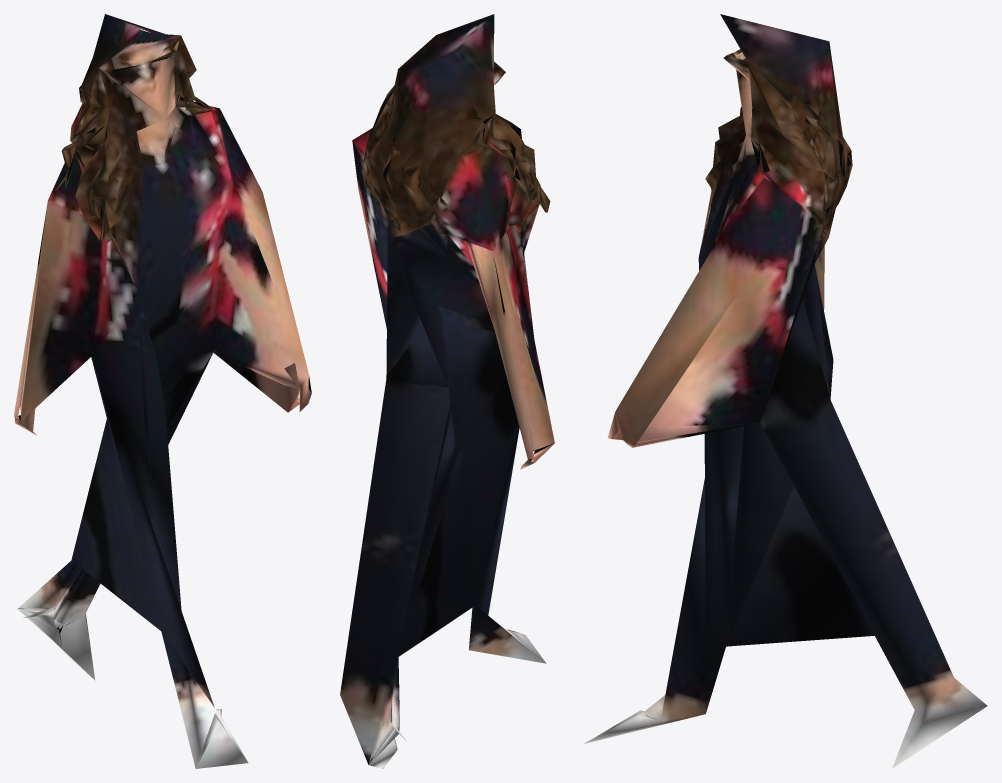
The model's file is extra-woman-2.glb.
3 views of the same model, side by side, from view 1: azimuth 30°, elevation 25°; view 2: azimuth 150°, elevation 25°; view 3: azimuth 270°, elevation 25° (orthographic). The views are drawn at different scales.
Visible parts, largest first — view 1: Mesh_0; view 2: Mesh_0; view 3: Mesh_0.
Boxes of the visible parts, x1,y1,x2,y2 form: Mesh_0: (14, 14, 311, 768); Mesh_0: (340, 14, 554, 768); Mesh_0: (584, 14, 987, 768).
Bounding box in the file's own units: 0.603 × 1.86 × 0.9232.
Materials: 1 (1 with a texture image).
